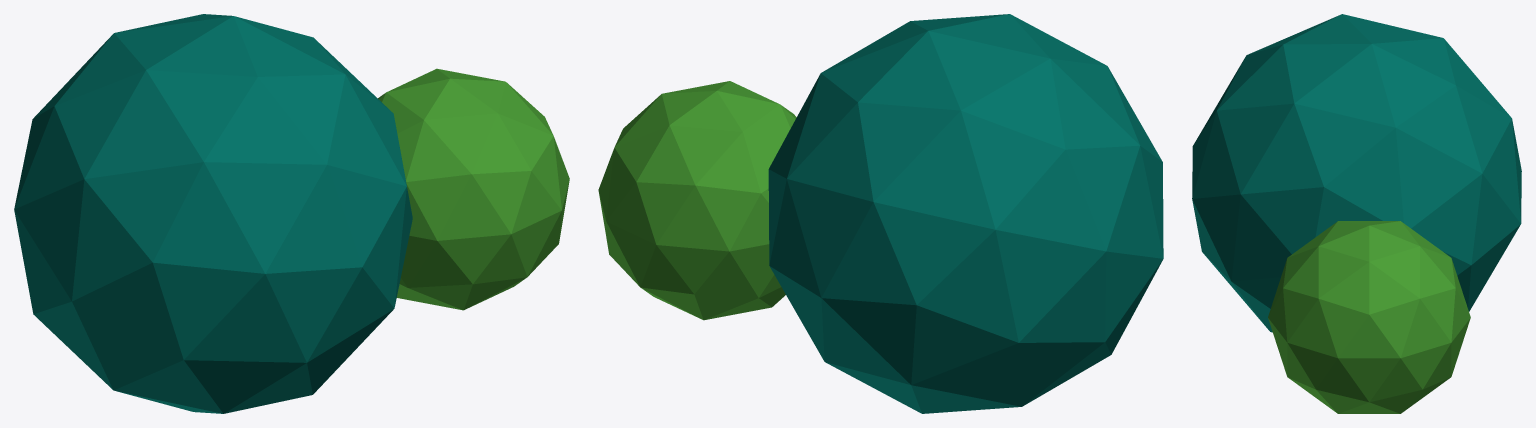
File: bush2.fbx
3 renders of one model, left to right at view 1: azimuth 30°, elevation 25°; view 2: azimuth 150°, elevation 25°; view 3: azimuth 270°, elevation 25°, orthographic. The views are drawn at different scales.
Visible parts, largest first — view 1: Icosphere.031, Icosphere.032; view 2: Icosphere.031, Icosphere.032; view 3: Icosphere.031, Icosphere.032.
Part boxes in pixels (left/top/right/bottom): Icosphere.031: left=14, top=14, right=412, bottom=413; Icosphere.032: left=378, top=68, right=569, bottom=310; Icosphere.031: left=768, top=14, right=1163, bottom=413; Icosphere.032: left=598, top=81, right=796, bottom=320; Icosphere.031: left=1192, top=14, right=1521, bottom=332; Icosphere.032: left=1268, top=221, right=1470, bottom=413.
Bounding box in the file's own units: 103 × 70.45 × 68.82.
